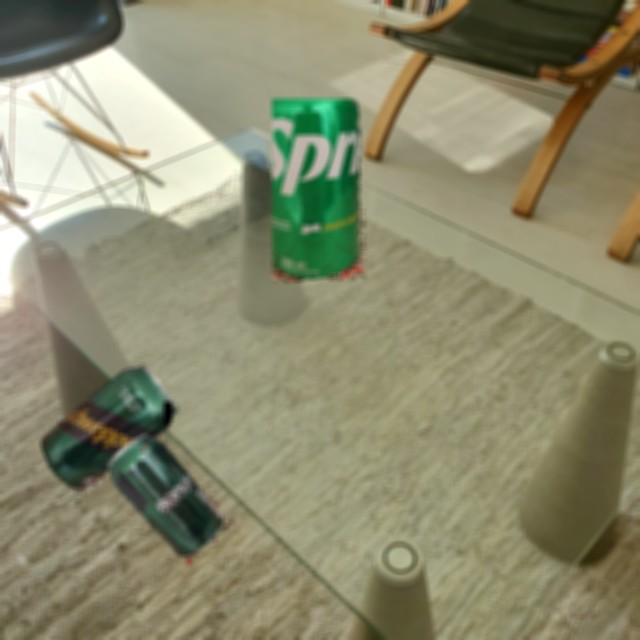schweppes: (31, 358, 184, 501), (101, 426, 235, 565)
sprite: (272, 99, 365, 282)
